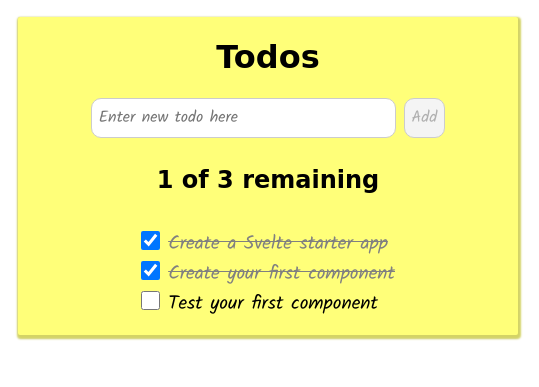
Scenario: App › should add a todo
Type "Buy milk" into the field labelled "todo" at point(244, 118), box [91,98,396,138]
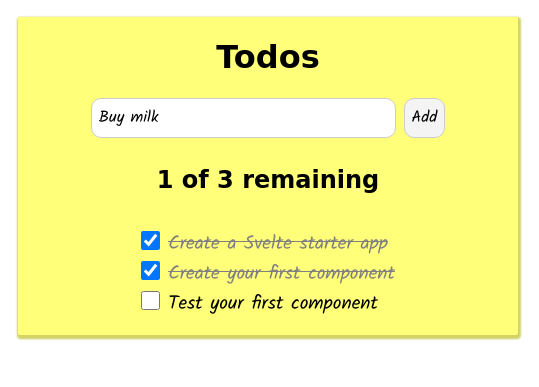
Click the button "Add" at point(424, 118), box [404,98,445,138]
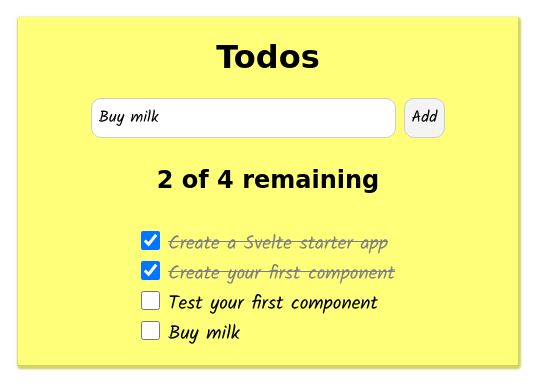
expect the text "Buy milk" is shown: met, box [168,320,240,350]
expect the number of list items is 4: met, box [141,230,395,260]; [141,260,395,290]; [141,290,395,320]; [141,320,240,350]
